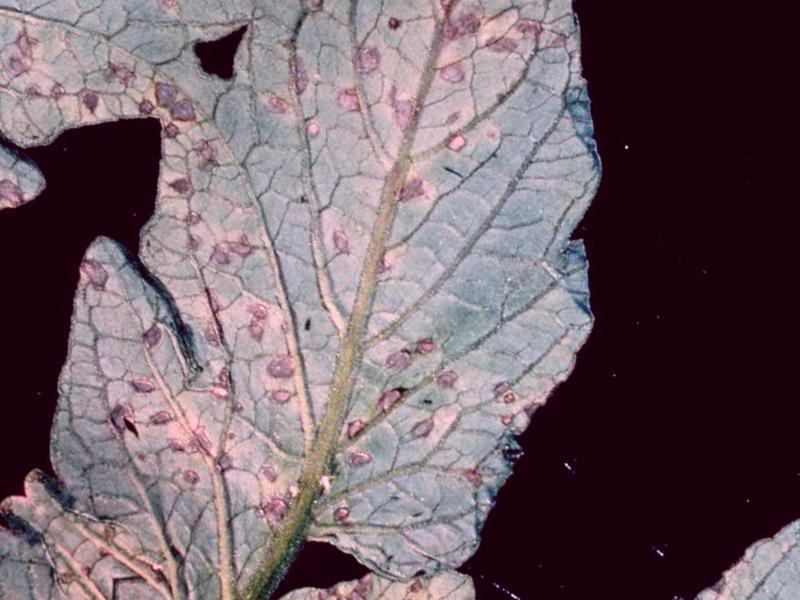Tomato Septoria leaf spot: (0, 0, 800, 600), (212, 488, 506, 600)
